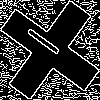I: (25, 25, 70, 64)
